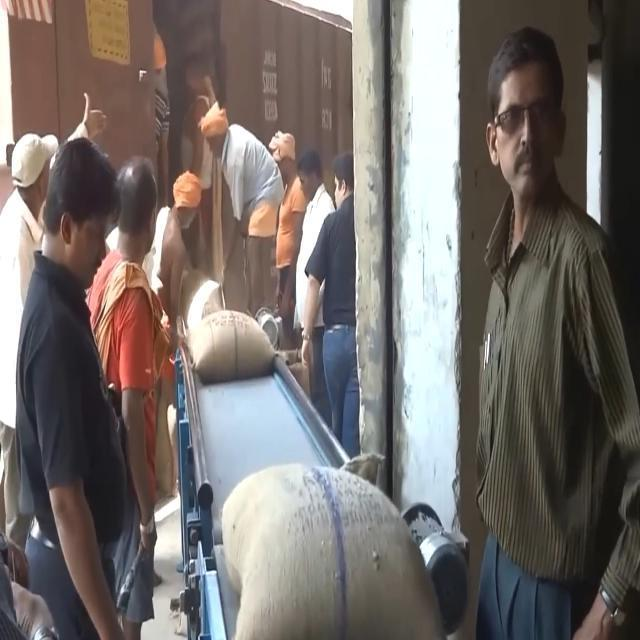gunny_bag: (218, 462, 450, 640), (188, 312, 275, 380)
